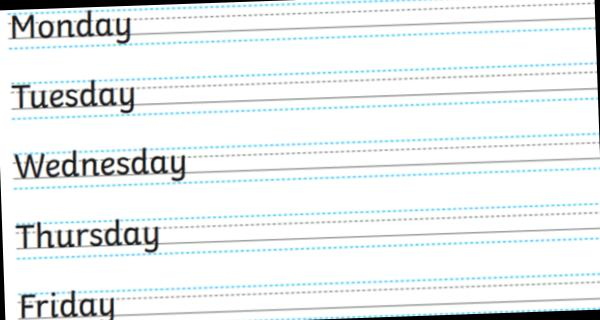text: (14, 144, 188, 188), (15, 216, 160, 258), (10, 7, 133, 49), (11, 78, 137, 119), (19, 287, 115, 320)
